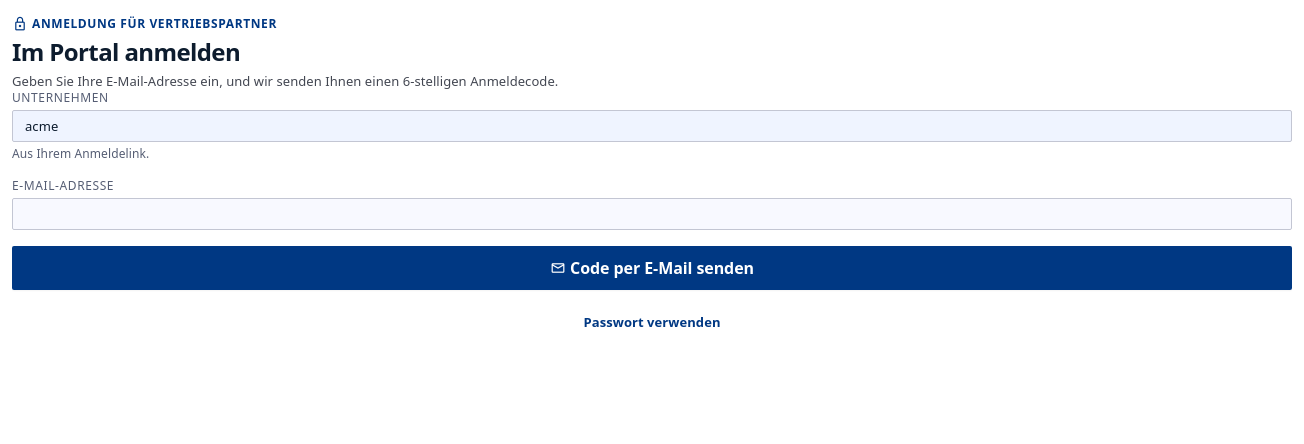
Test case: portal sign-in page › speaks the Accept-Language match among the supported locales (D-BM-11)
Expected: the heading "Im Portal anmelden" is shown, [12, 35, 240, 68]
Click the button "Code per E-Mail senden".
click(652, 268)  # box [12, 246, 1292, 290]
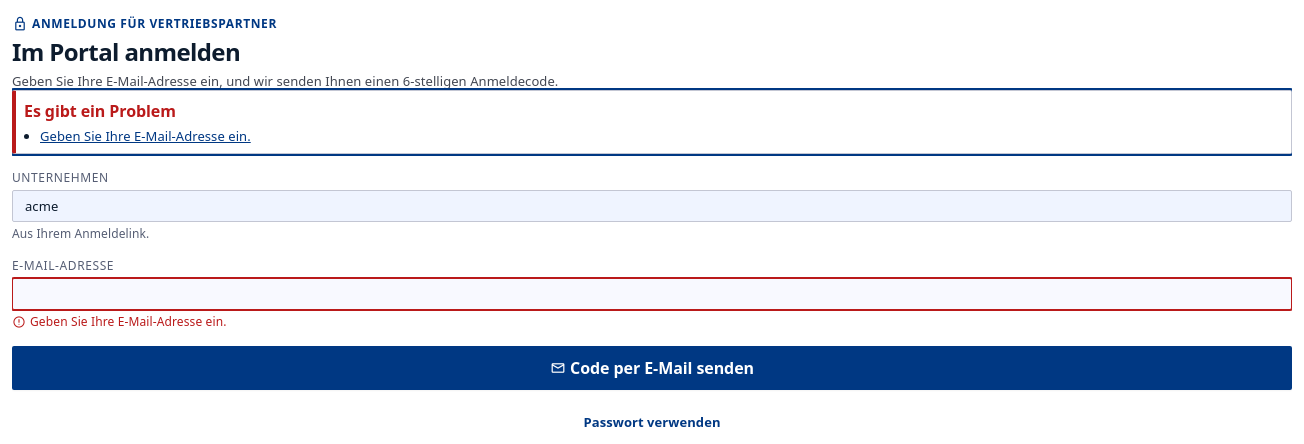
Result: the link "Geben Sie Ihre E-Mail-Adresse ein." is shown at [40, 127, 251, 145]
Result: the heading "Es gibt ein Problem" is shown at [24, 100, 176, 122]
